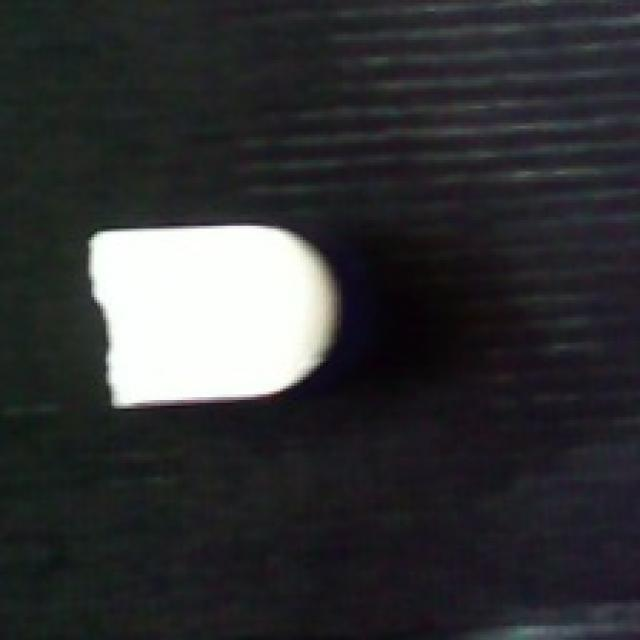defected: (83, 212, 343, 412)
